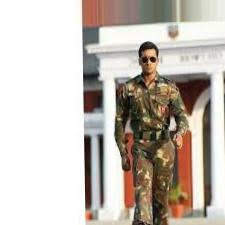uniform: (111, 74, 192, 216)
